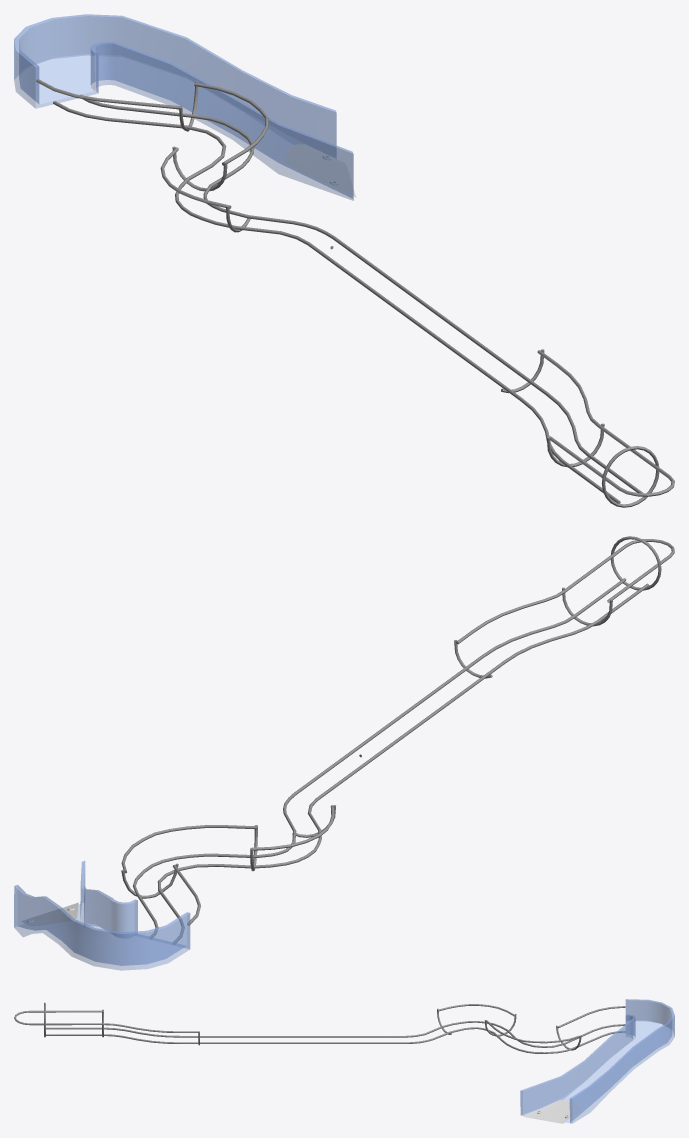
File: Tuonela River Ramp.FBX
3 renders of one model, top to bottom at view 1: azimuth 30°, elevation 25°; view 2: azimuth 150°, elevation 25°; view 3: azimuth 270°, elevation 25°, orthographic. The views are drawn at different scales.
Parts seen in each view (by area): view 1: Ramp Entrance003, Ramp, Plate005; view 2: Ramp Entrance003, Ramp, Plate005; view 3: Ramp Entrance003, Ramp, Plate005.
Boxes of the visible parts, x1,y1,x2,y2 form: Ramp Entrance003: [14, 14, 353, 200]; Ramp: [36, 79, 674, 507]; Plate005: [284, 144, 356, 197]; Ramp Entrance003: [14, 861, 190, 970]; Ramp: [121, 536, 674, 942]; Plate005: [21, 902, 78, 925]; Ramp Entrance003: [520, 999, 674, 1123]; Ramp: [14, 1002, 625, 1053]; Plate005: [523, 1099, 580, 1123].
Bounding box in the file's own units: 0.166 × 0.0779 × 0.6979.
